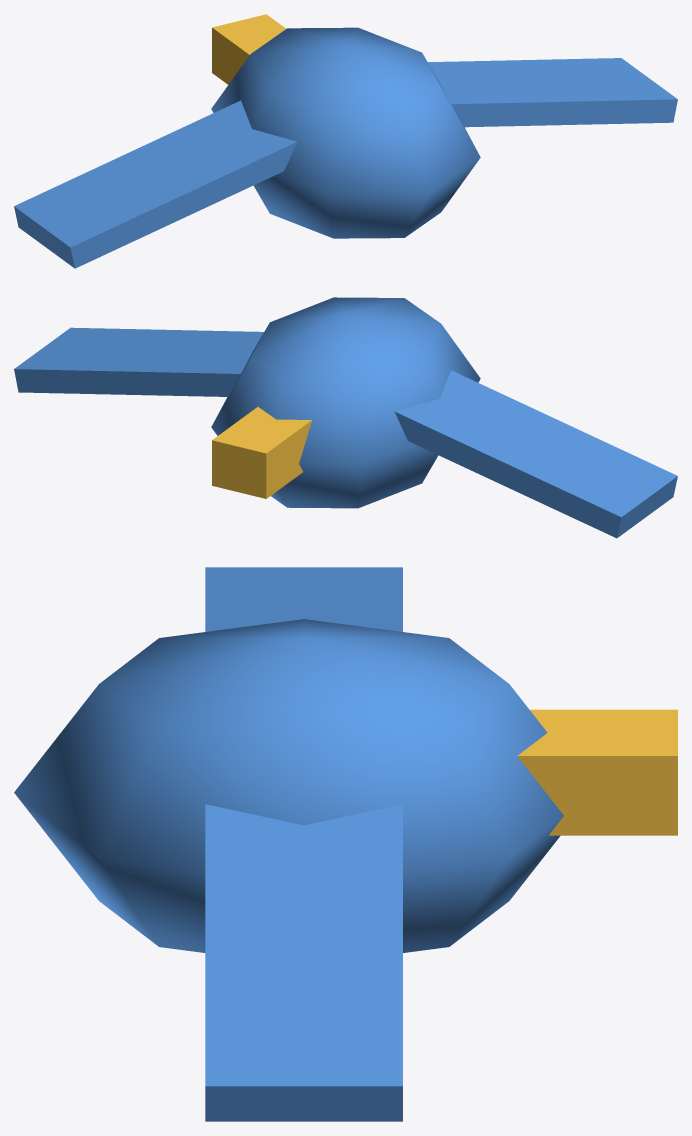
File: bird.glb
The picture shows the model from 3 angles, top to bottom: view 1: azimuth 30°, elevation 25°; view 2: azimuth 150°, elevation 25°; view 3: azimuth 270°, elevation 25°; orthographic projection. The views are drawn at different scales.
Parts seen in each view (by area): view 1: bird; view 2: bird; view 3: bird.
Part boxes in pixels (bbox=[...]): bird: bbox=[14, 14, 677, 268]; bird: bbox=[14, 297, 677, 538]; bird: bbox=[14, 567, 677, 1121].
Bounding box in the file's own units: 1.12 × 0.308 × 0.604.
